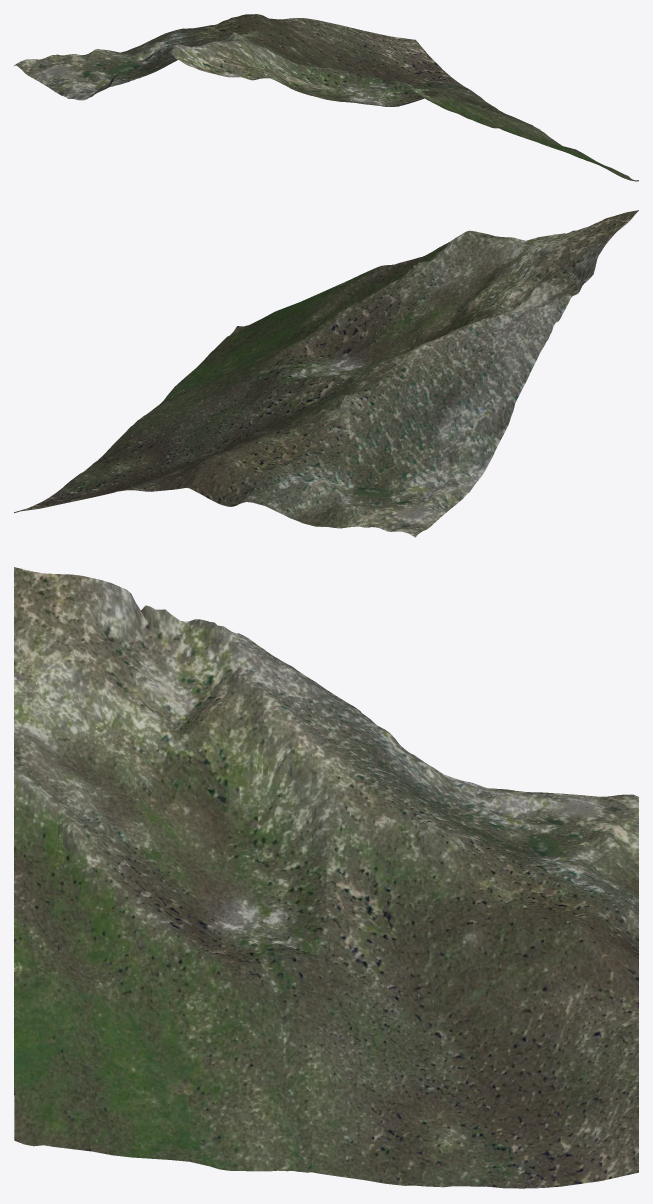
3 renders of one model, top to bottom at view 1: azimuth 30°, elevation 25°; view 2: azimuth 150°, elevation 25°; view 3: azimuth 270°, elevation 25°, orthographic. The views are drawn at different scales.
Bounding box in the file's own units: 1000 × 593 × 963.
1 material, 1 textured.
